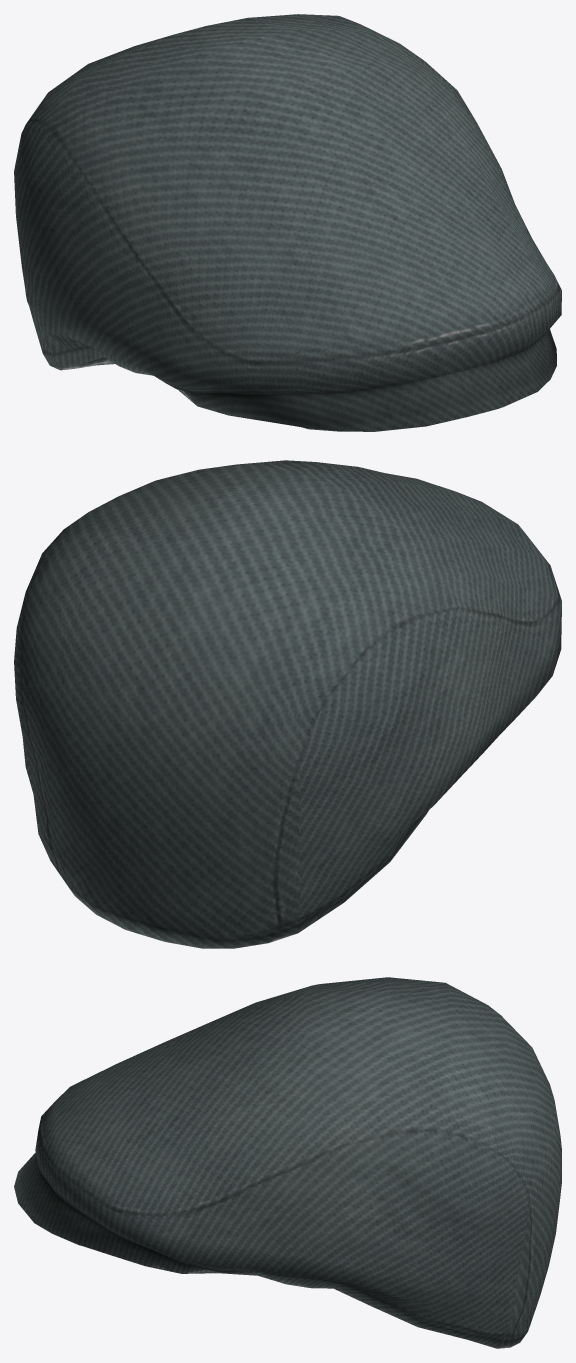
File: Hat 5.FBX
The picture shows the model from 3 angles, top to bottom: view 1: azimuth 30°, elevation 25°; view 2: azimuth 150°, elevation 25°; view 3: azimuth 270°, elevation 25°; orthographic projection. The views are drawn at different scales.
Parts seen in each view (by area): view 1: hat 5; view 2: hat 5; view 3: hat 5.
Boxes of the visible parts, x1=… form: hat 5: x1=14, y1=14, x2=561, y2=431; hat 5: x1=14, y1=460, x2=561, y2=948; hat 5: x1=14, y1=977, x2=561, y2=1348.
Size of the model in its own units: 18.53 by 16.46 by 25.82.
1 material, 1 textured.
